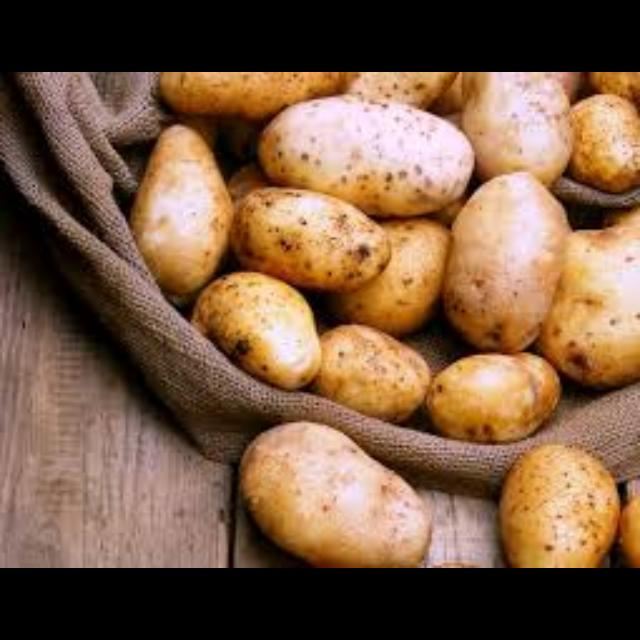Diseased-fungal potato: (444, 170, 584, 362), (254, 95, 473, 217), (130, 102, 240, 298), (190, 262, 326, 396), (225, 182, 398, 286), (502, 436, 624, 568), (299, 320, 437, 426), (424, 352, 566, 448)
Potato: (232, 422, 438, 568), (453, 72, 577, 182)
